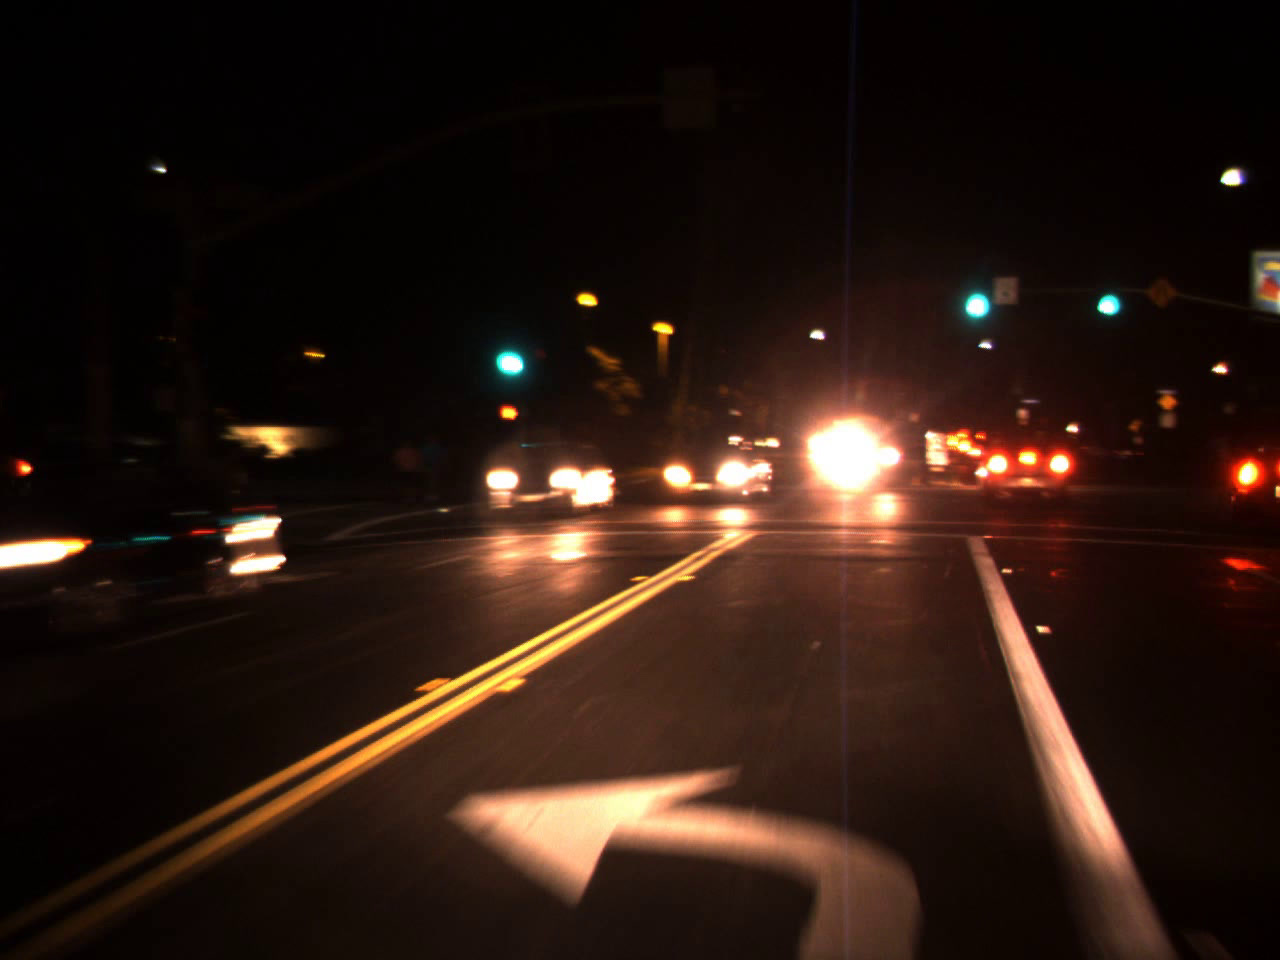go: (484, 317, 530, 386), (954, 259, 995, 328), (1087, 269, 1124, 323)
